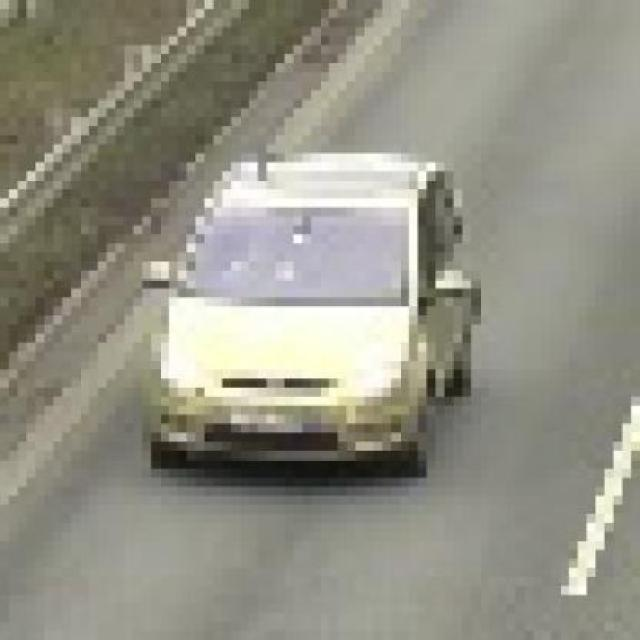vehicle: (137, 137, 487, 482)
